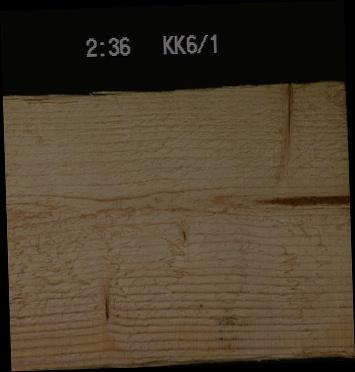small_knot: (171, 225, 194, 249)
split: (2, 93, 82, 107)
